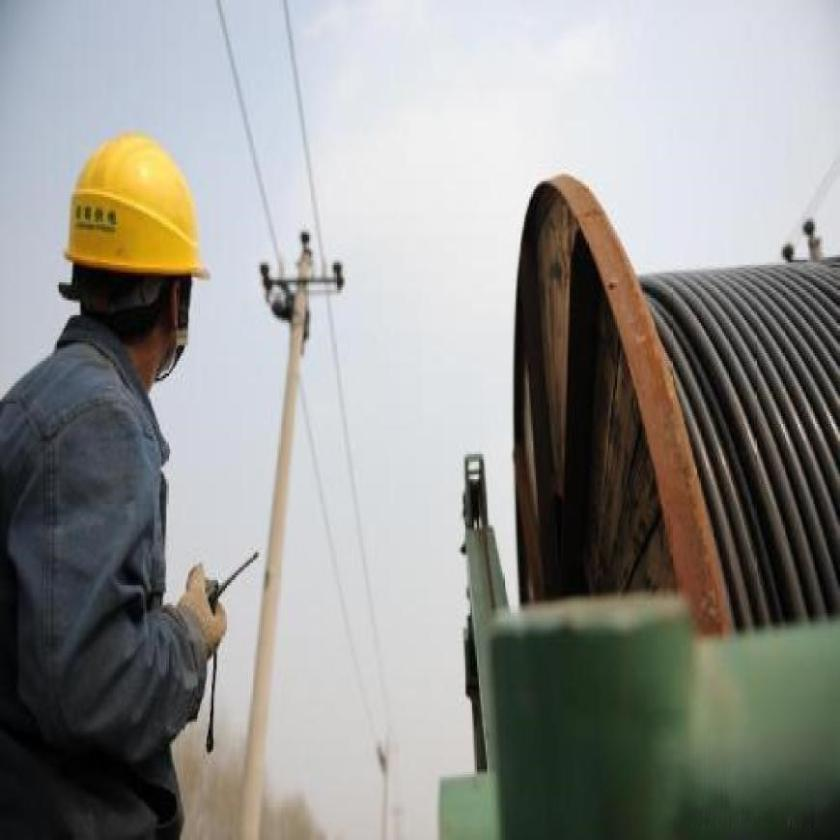Con_casco: (54, 97, 214, 392)
